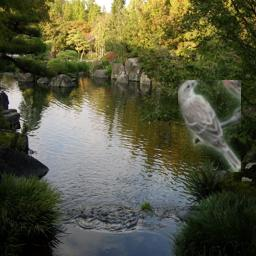Sparrow: (178, 80, 241, 172)
